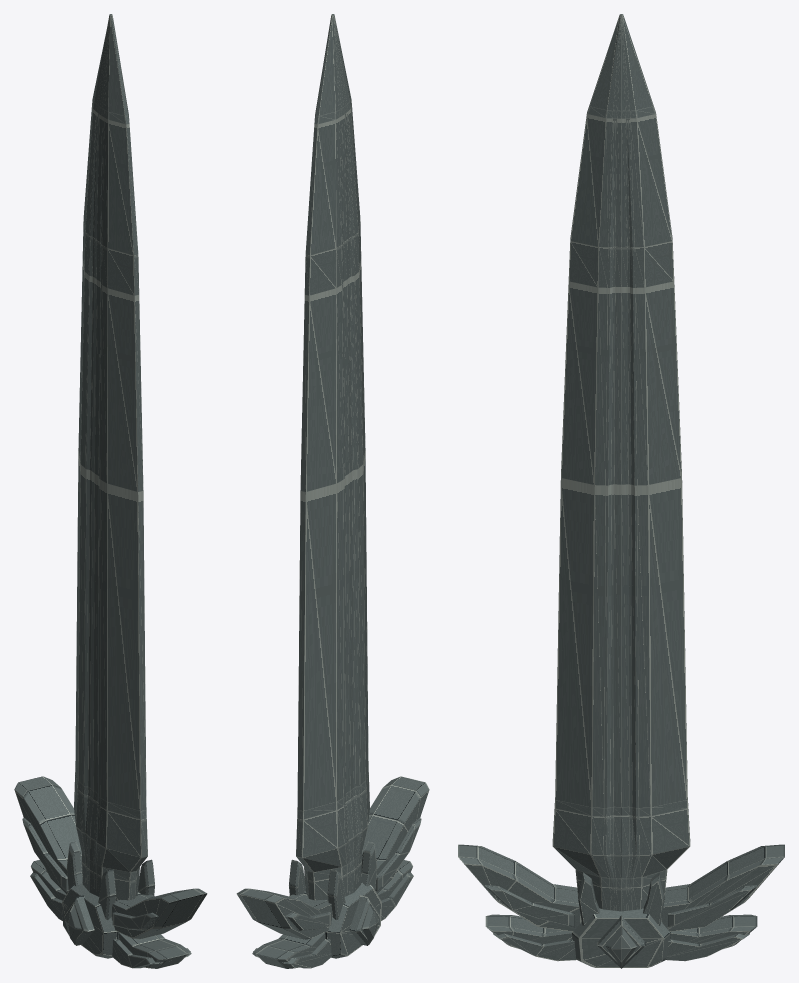
The model's file is workpiece_zhuji_baiqing_lingyun_sword_shaped.obj.
3 views of the same model, side by side, from view 1: azimuth 30°, elevation 25°; view 2: azimuth 150°, elevation 25°; view 3: azimuth 270°, elevation 25° (orthographic).
Visible parts, largest first — view 1: geometry; view 2: geometry; view 3: geometry.
Boxes of the visible parts, box(x1,y1,x2,y2) form: geometry: box(14, 14, 207, 968); geometry: box(236, 14, 429, 968); geometry: box(458, 14, 784, 968).
Bounding box in the file's own units: 0.1199 × 1.25 × 0.3913.
